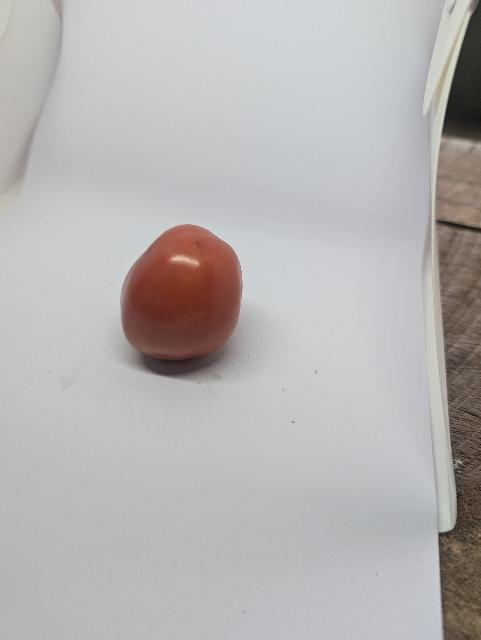red: (108, 221, 266, 380)
